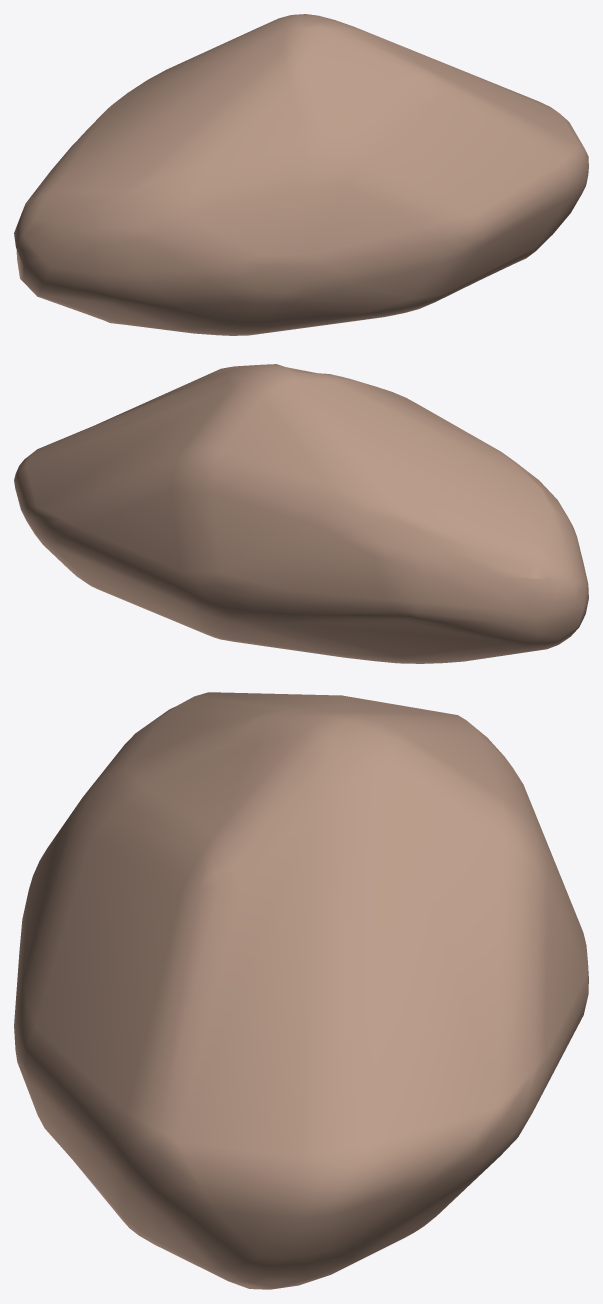
Rendered from Rock_03_Wedge_MaxPoligon.fbx.
3 renders of one model, top to bottom at view 1: azimuth 30°, elevation 25°; view 2: azimuth 150°, elevation 25°; view 3: azimuth 270°, elevation 25°, orthographic. The views are drawn at different scales.
Visible parts, largest first — view 1: Rock_03_Wedge; view 2: Rock_03_Wedge; view 3: Rock_03_Wedge.
Part boxes in pixels (x1,y1,x2,y2): Rock_03_Wedge: [14, 14, 588, 335]; Rock_03_Wedge: [14, 364, 588, 663]; Rock_03_Wedge: [14, 692, 588, 1289].
Bounding box in the file's own units: 0.9734 × 0.4009 × 0.5354.
